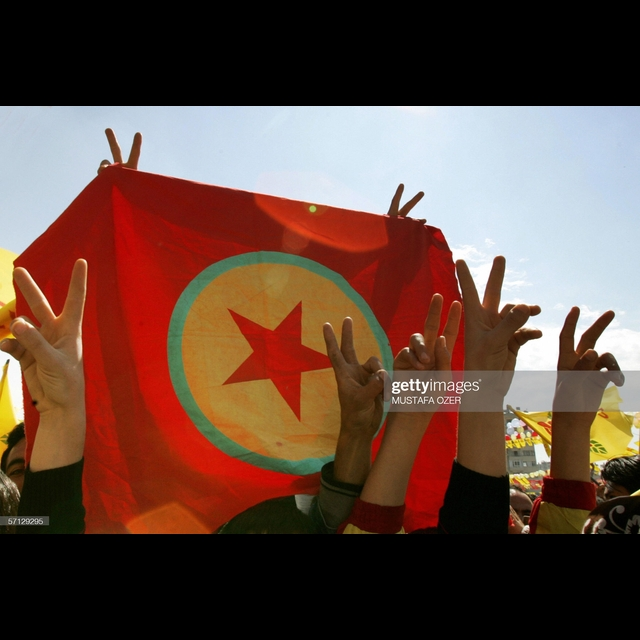ZI: (4, 258, 92, 459), (446, 244, 541, 376), (543, 301, 632, 424), (302, 308, 390, 428), (89, 121, 154, 188), (377, 174, 436, 235)
